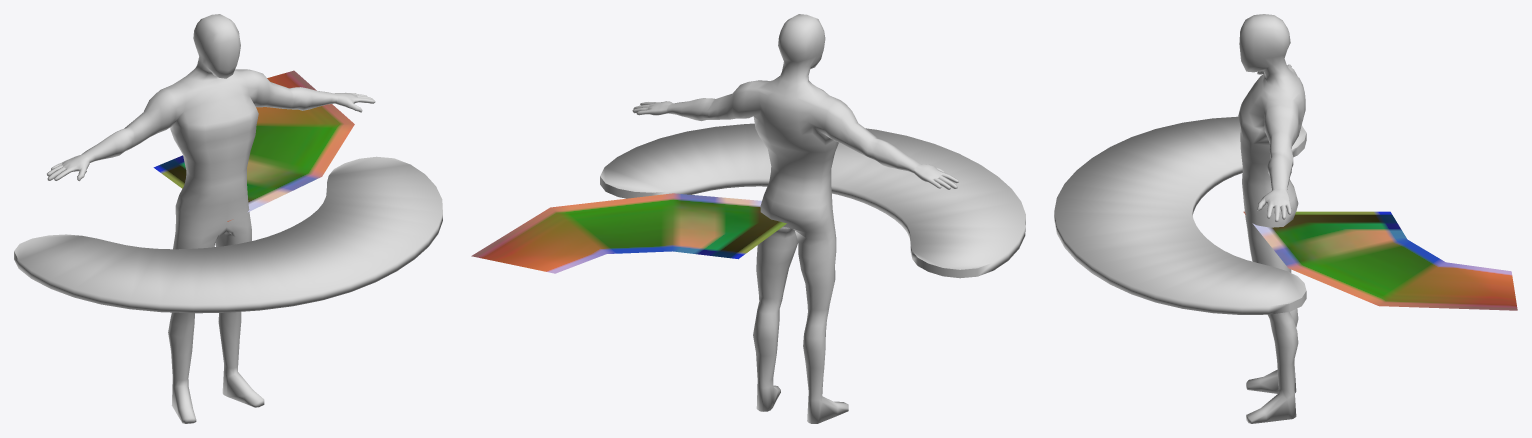
The model's file is table test.glb.
3 renders of one model, left to right at view 1: azimuth 30°, elevation 25°; view 2: azimuth 150°, elevation 25°; view 3: azimuth 270°, elevation 25°, orthographic.
Visible parts, largest first — view 1: SM_table, ref, table edit; view 2: ref, SM_table, table edit; view 3: SM_table, table edit, ref.
Part boxes in pixels (left/top/right/bottom): SM_table: left=14, top=156, right=442, bottom=313; ref: left=47, top=14, right=375, bottom=423; table edit: left=153, top=70, right=354, bottom=221; ref: left=632, top=14, right=958, bottom=423; SM_table: left=600, top=123, right=1025, bottom=278; table edit: left=471, top=193, right=786, bottom=273; SM_table: left=1054, top=116, right=1306, bottom=314; table edit: left=1243, top=211, right=1517, bottom=310; ref: left=1238, top=14, right=1305, bottom=423.
Size of the model in its own units: 2.16 by 2 by 2.17.
Materials: 1 (1 with a texture image).
